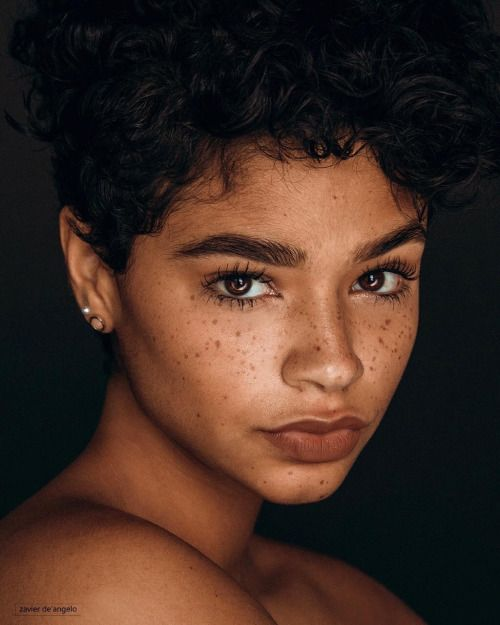bare: (118, 308, 408, 504)
